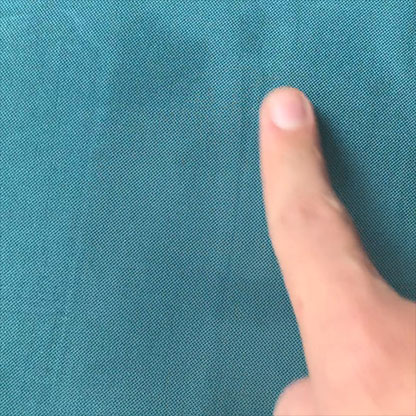fingertip: (256, 78, 324, 143)
